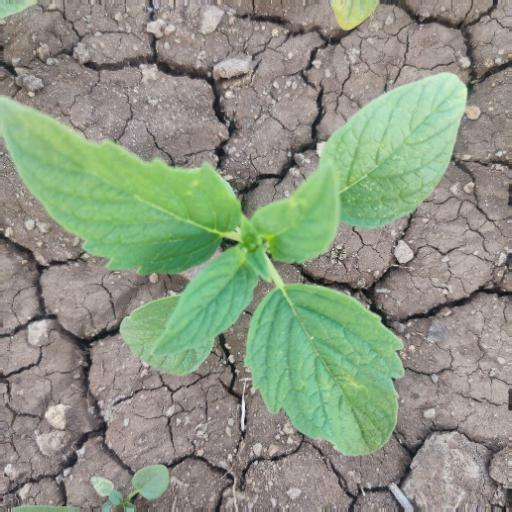crop: (1, 81, 474, 443)
